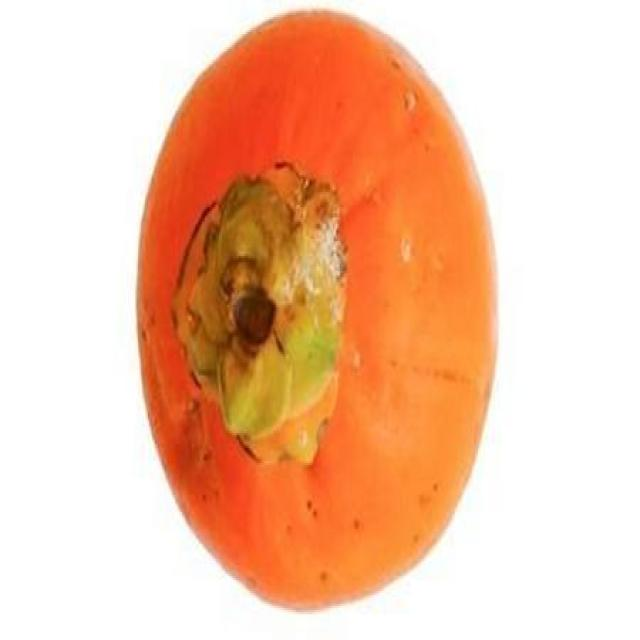good: (135, 9, 502, 614)
